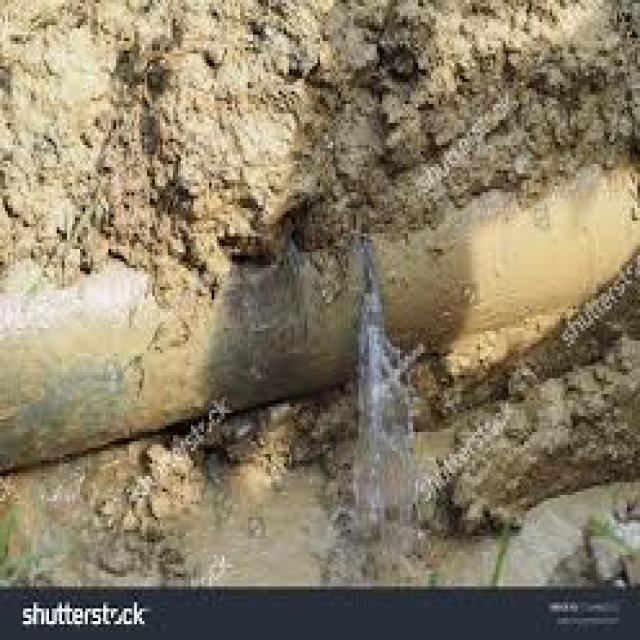pipe burst: (355, 274, 419, 549)
water accumulation: (183, 431, 640, 586)
